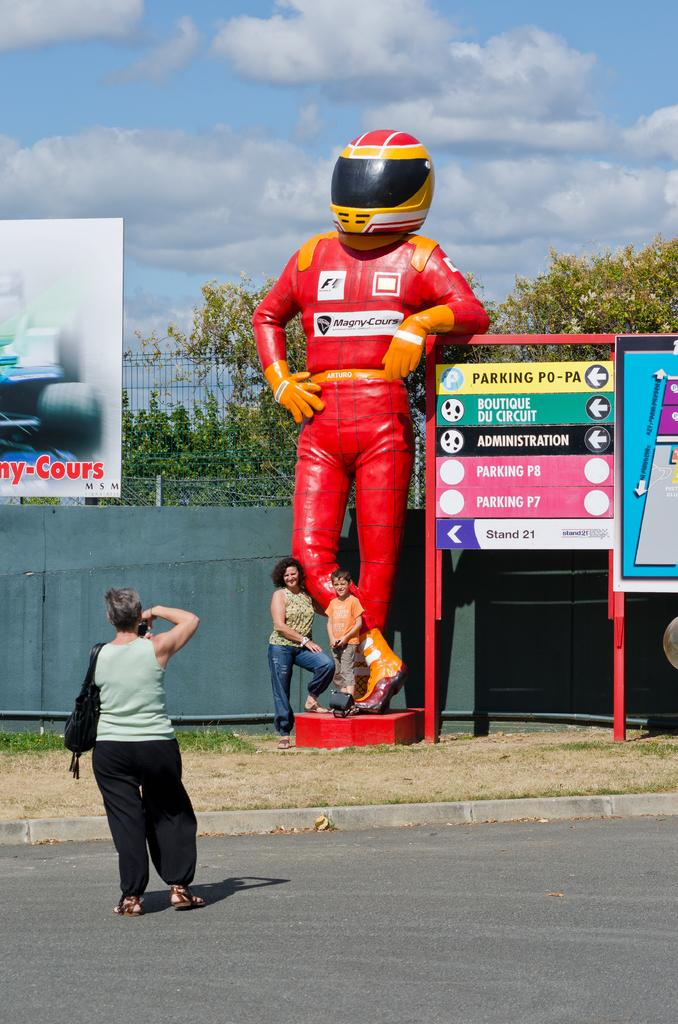helmet: (329, 129, 435, 235)
nohelmet: (104, 586, 144, 636), (274, 556, 304, 591), (330, 567, 353, 598)
